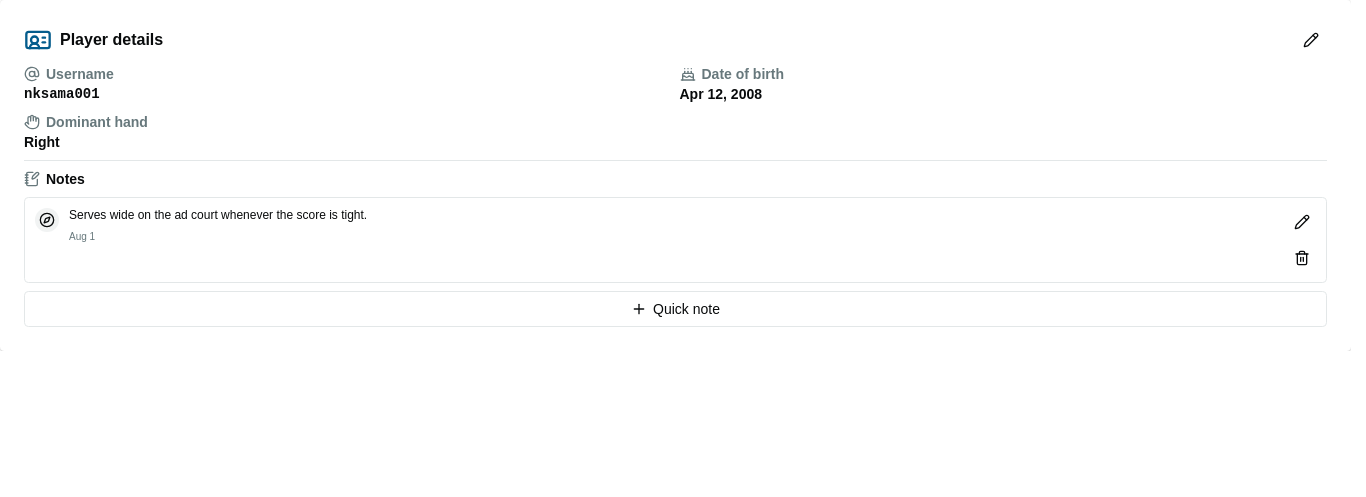
Test: Edit note opens the composer prefilled, and Delete asks for confirmation first
This screenshot has width=1366, height=497.
Expected: the text "Serves wide on the ad court whenever the score is tight." is shown, [69,208,367,222]
Step 1. Click the button named "Edit note" → point(1302, 222), box [1286,206,1318,238]
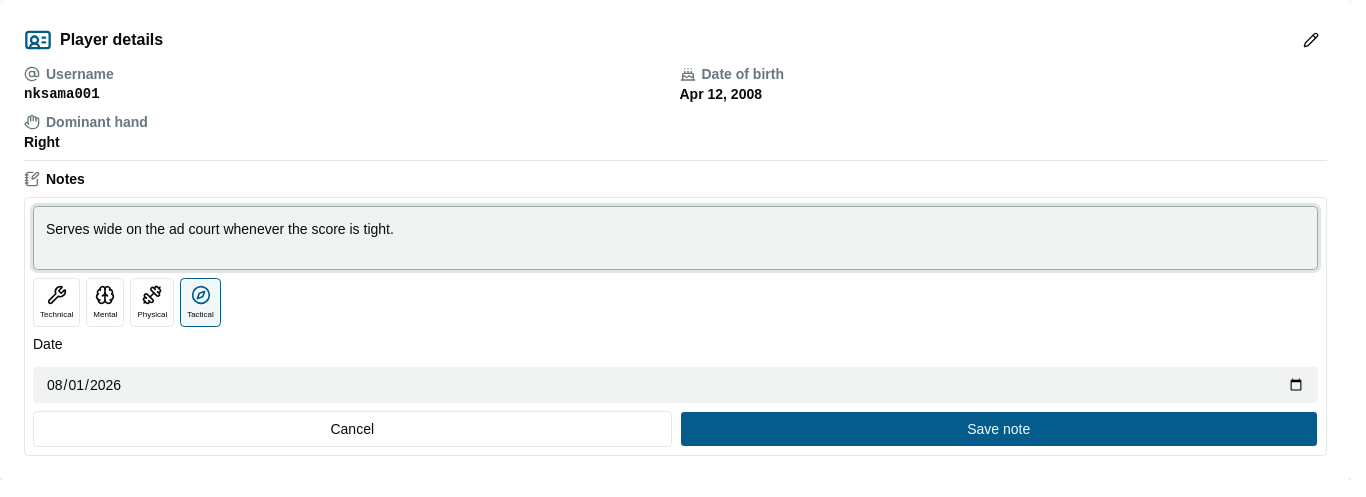
Now the text box showing "Serves wide on the ad court whenever the score is tight." is shown, box [33,206,1318,270]
Step 2. Click the button "Cancel" → point(352, 429), box [33,411,672,447]
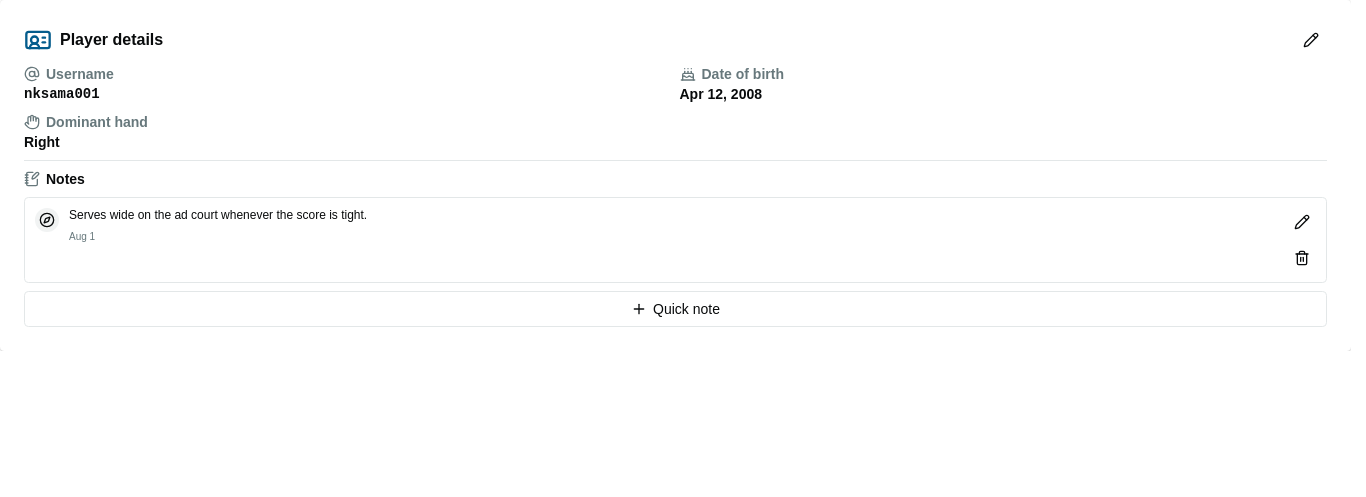
Step 3. Click the button named "Delete note" → point(1302, 258), box [1286,242,1318,274]
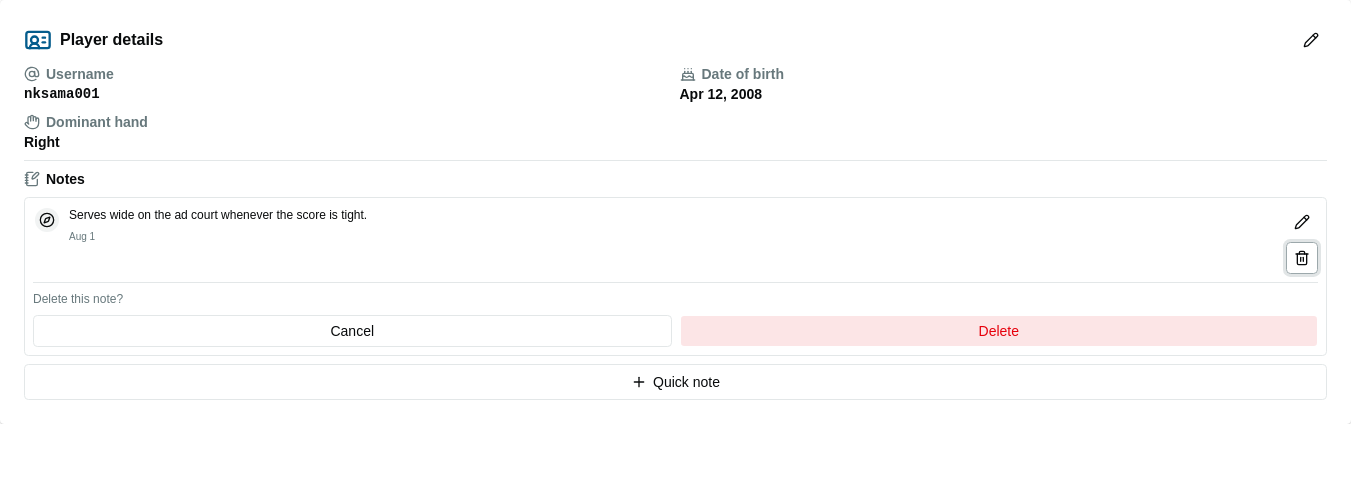
Step 4. Click the button "Delete" → point(999, 331), box [680,315,1318,347]
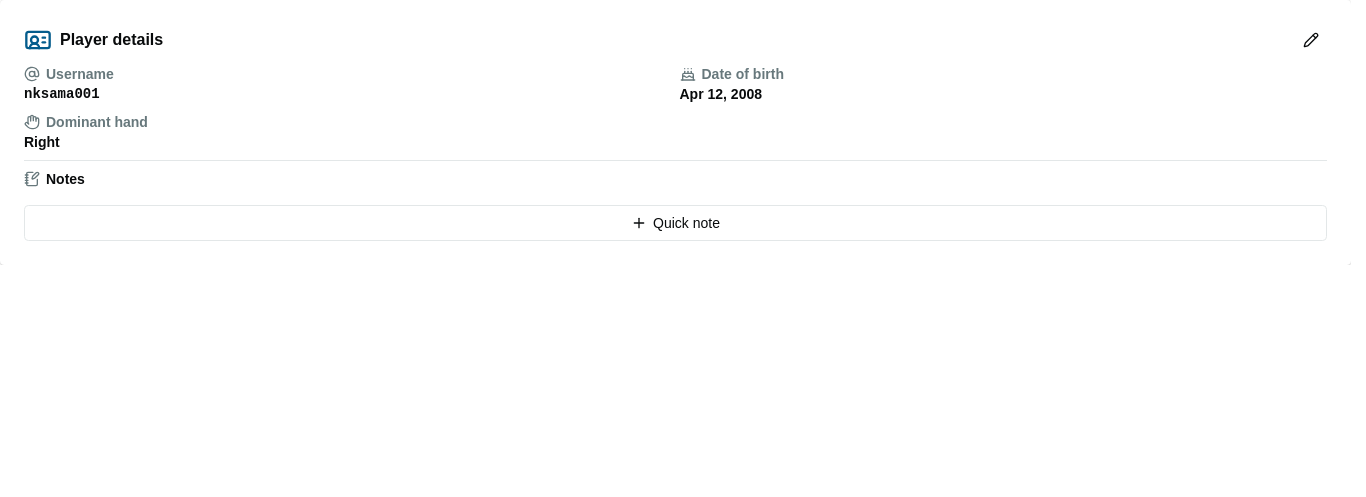
Now the text "Serves wide on the ad court whenever the score is tight." is gone
